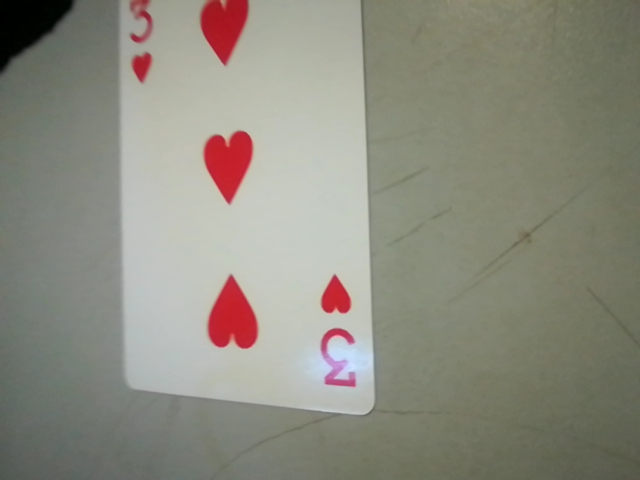hx 3: (306, 263, 372, 400)
